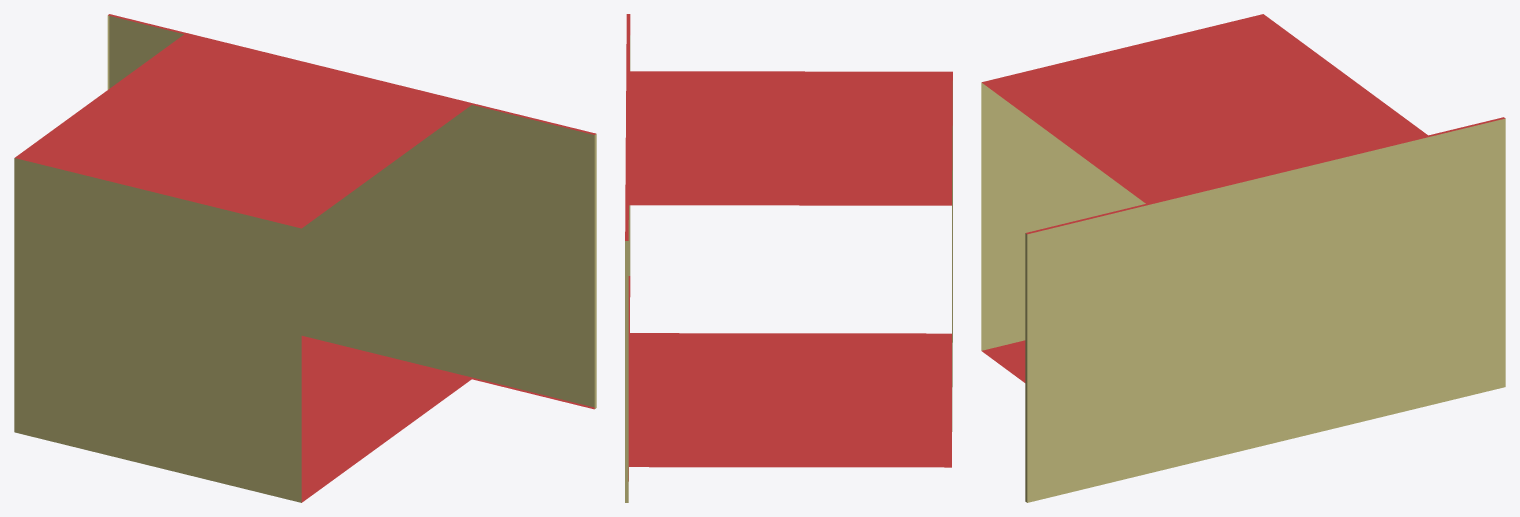
The picture shows the model from 3 angles, left to right: view 1: azimuth 30°, elevation 25°; view 2: azimuth 150°, elevation 25°; view 3: azimuth 270°, elevation 25°; orthographic projection. The views are drawn at different scales.
Bounding box in the file's own units: 9.8 × 9.85 × 5.57.
